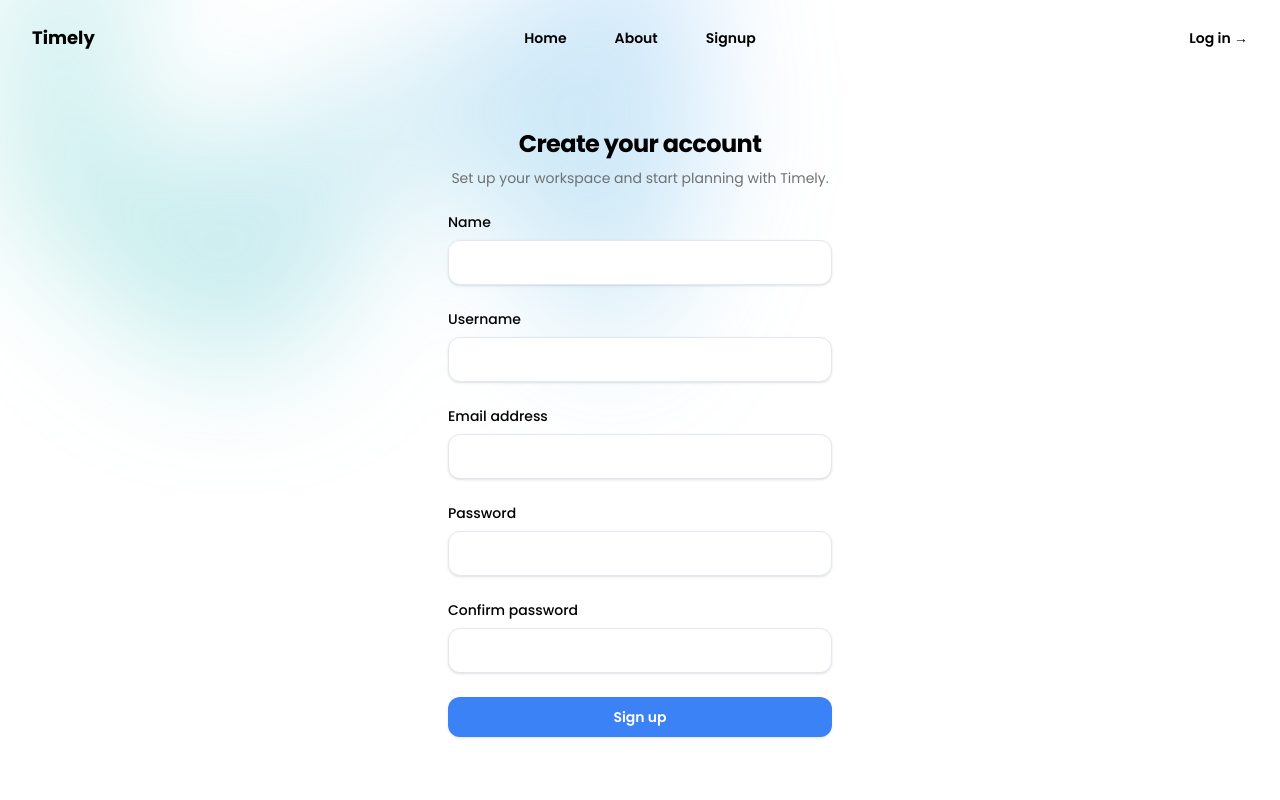
Scenario: Signup page › shows error when signup fails
Type "Bob Example" into the field labelled "Name" at point(640, 262), box x1=448 y1=240 x2=832 y2=284
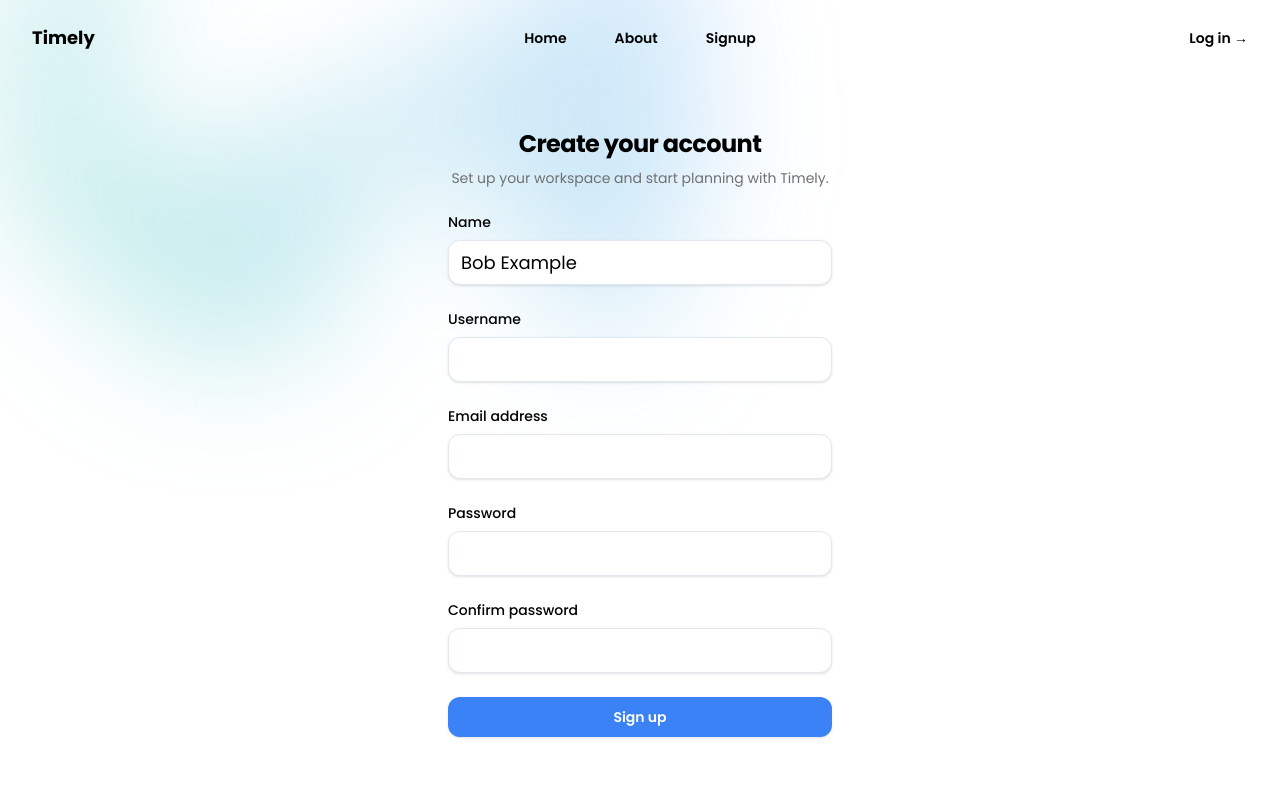
Type "bob" into the field labelled "Username" at point(640, 359), box x1=448 y1=336 x2=832 y2=382
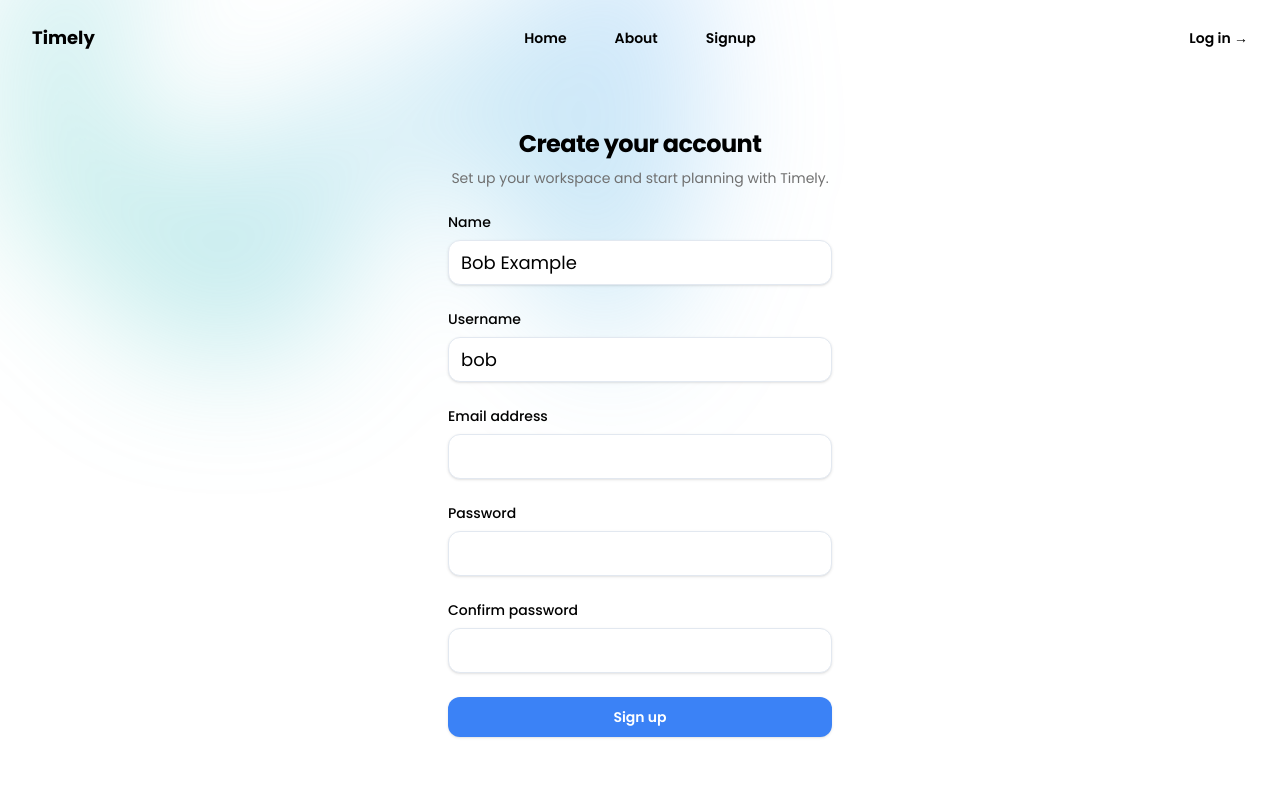
Type "bob@example.com" into the field labelled "Email address" at point(640, 456), box x1=448 y1=434 x2=832 y2=478
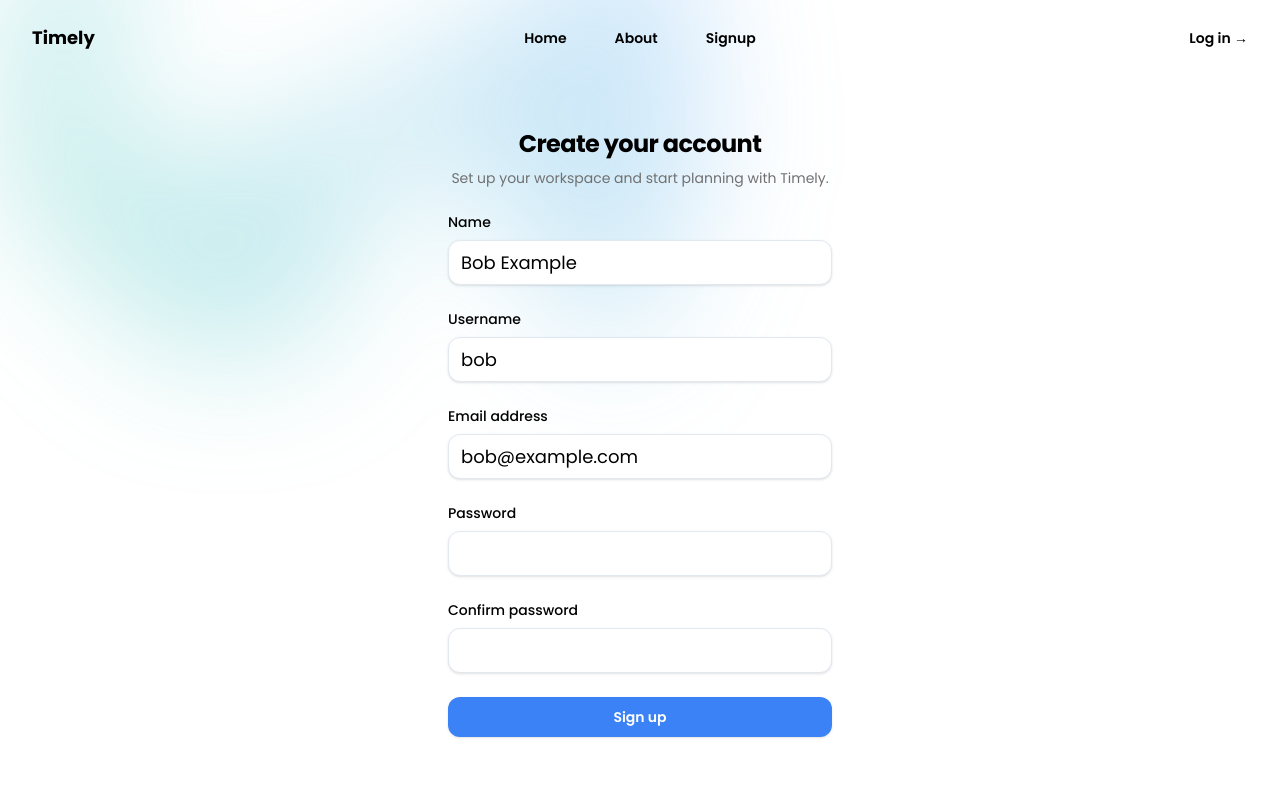
Type "pass" into the password field labelled "Password" at point(640, 553), box x1=448 y1=530 x2=832 y2=576
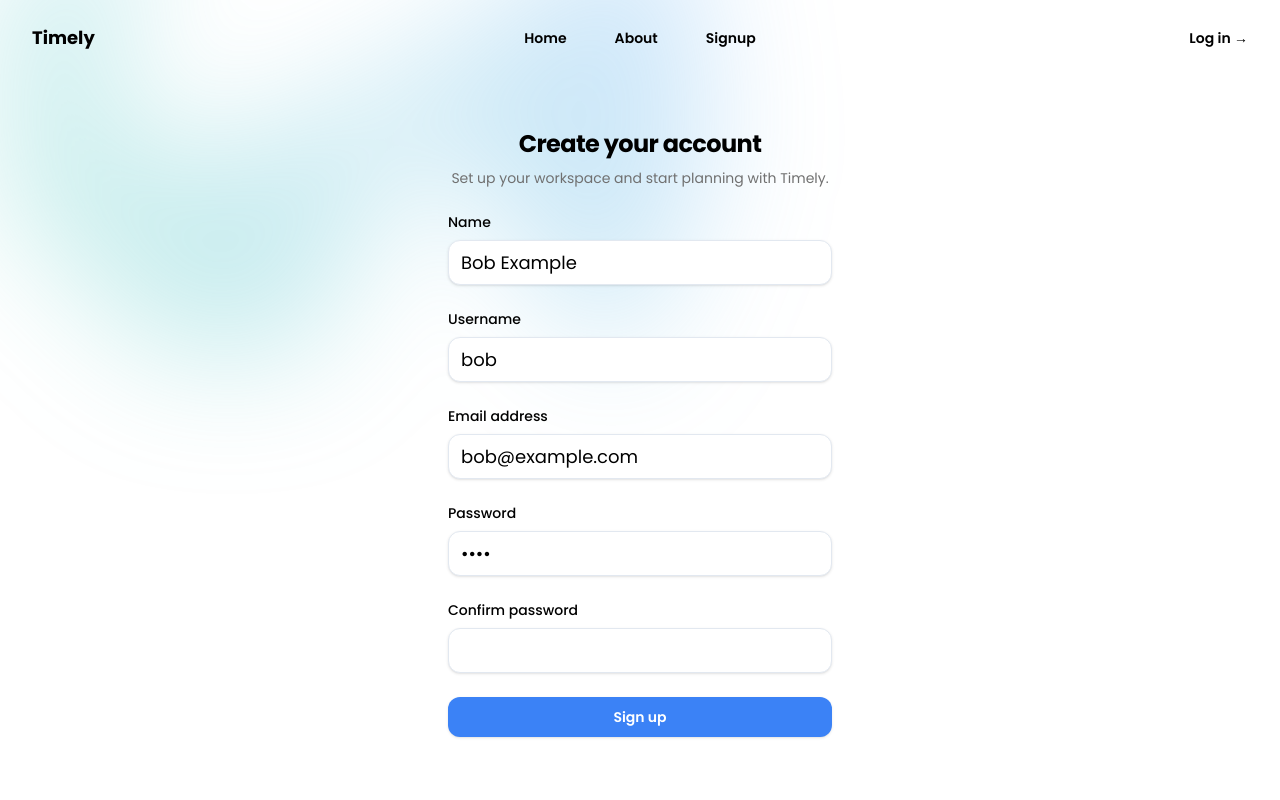
Type "pass" into the password field labelled "Confirm password" at point(640, 650), box x1=448 y1=628 x2=832 y2=672
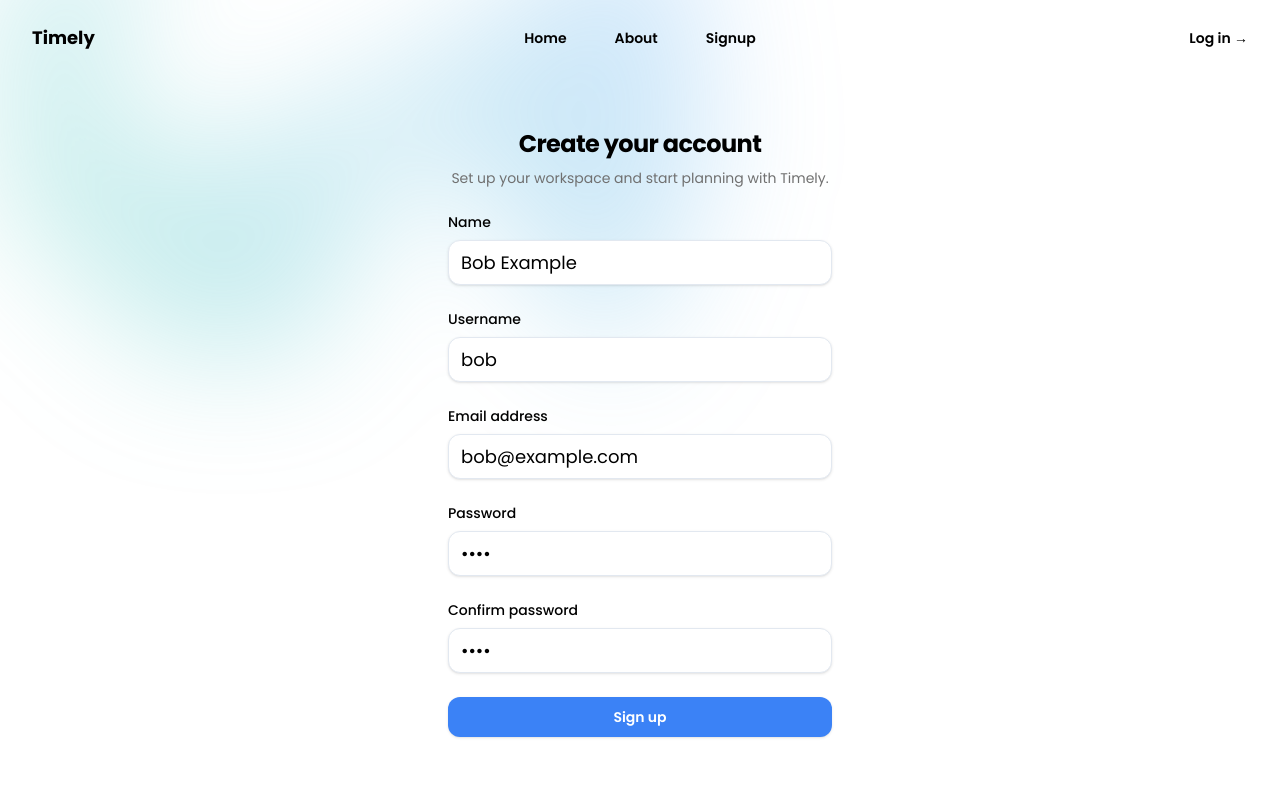
Click the button "Sign up" at point(640, 716), box x1=448 y1=696 x2=832 y2=736
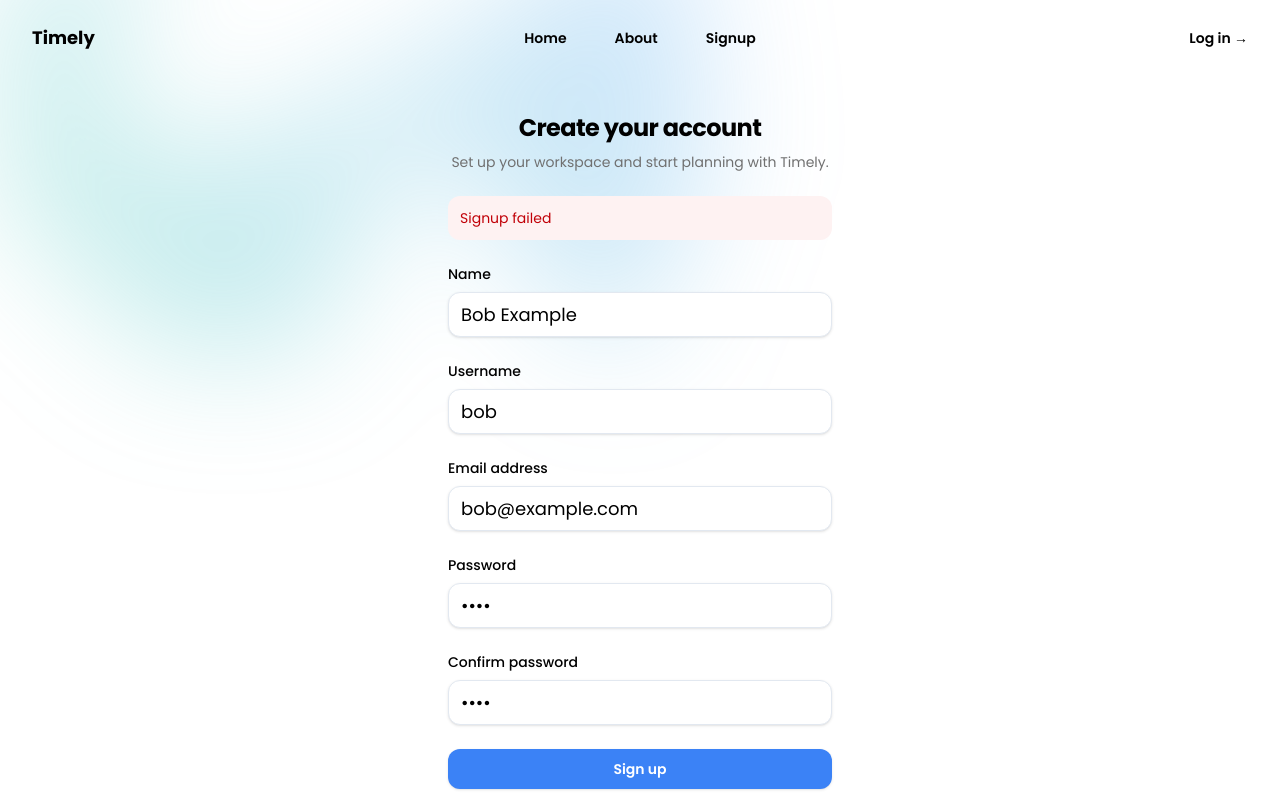
Expected: the text "Signup failed" is shown, x1=448 y1=196 x2=832 y2=240
